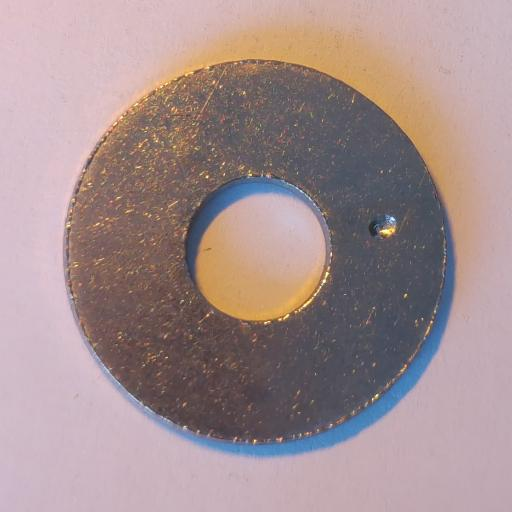circular_cavity: (369, 214, 396, 239)
